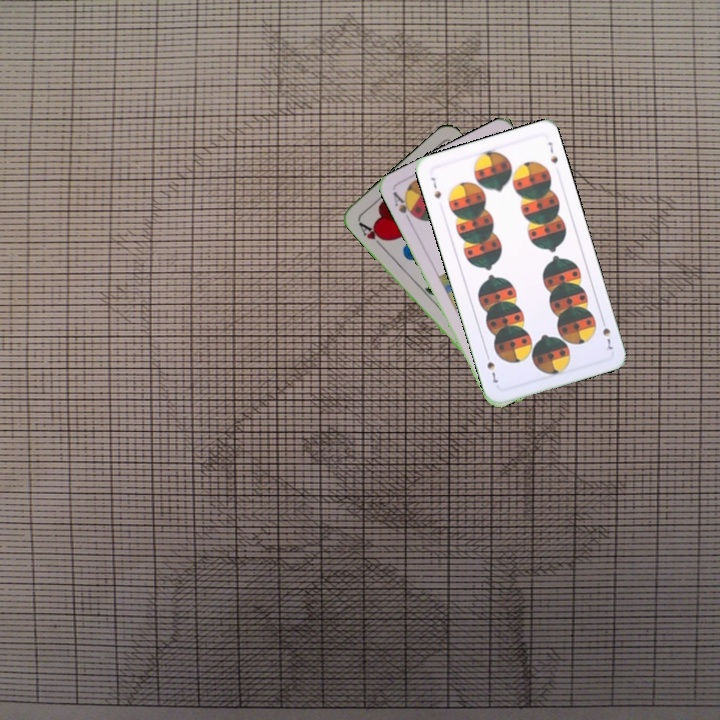HA: (354, 218, 389, 250)
S7: (597, 314, 616, 353), (427, 173, 444, 201)
SA: (389, 187, 419, 225)
